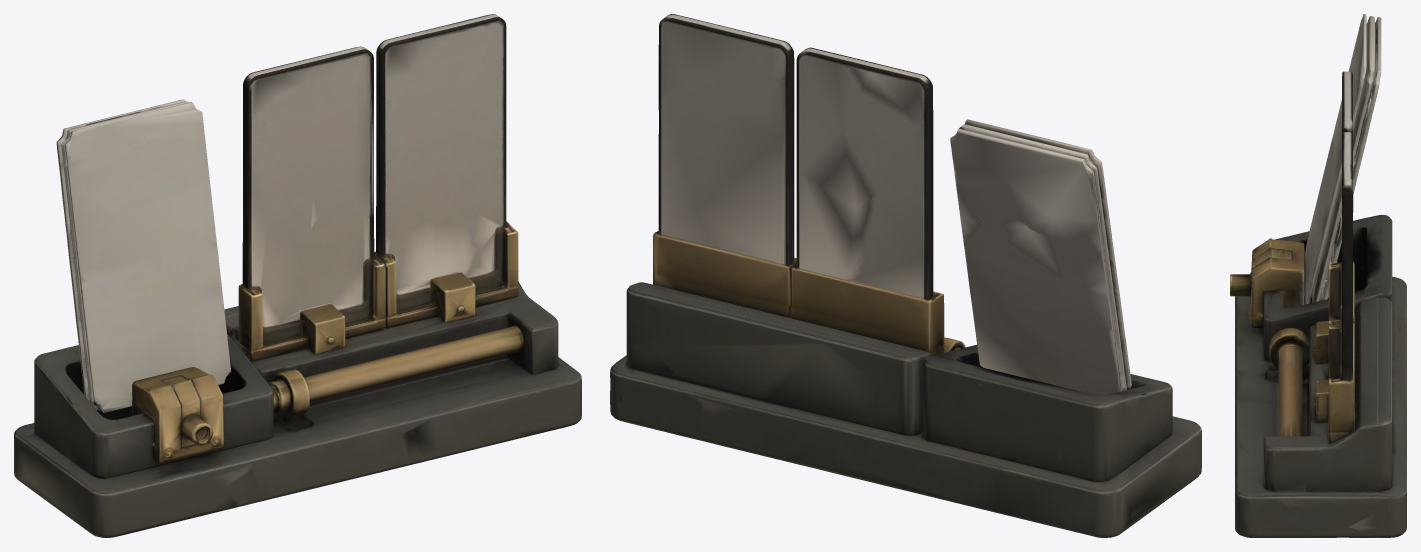
The model's file is hero-harness-input-dock-v1.glb.
3 renders of one model, left to right at view 1: azimuth 30°, elevation 25°; view 2: azimuth 150°, elevation 25°; view 3: azimuth 270°, elevation 25°, orthographic. The views are drawn at different scales.
Parts seen in each view (by area): view 1: node_0; view 2: node_0; view 3: node_0.
Boxes of the visible parts, x1,y1,x2,y2 form: node_0: (14, 14, 581, 537); node_0: (610, 14, 1201, 537); node_0: (1230, 14, 1406, 537).
Bounding box in the file's own units: 0.9523 × 0.6905 × 0.3223.
Materials: 1 (1 with a texture image).
